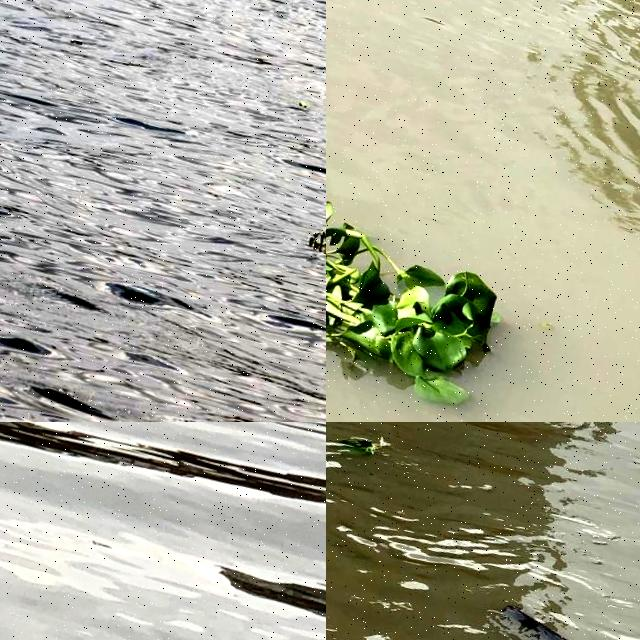water-hyacinth: (327, 155, 532, 419)
